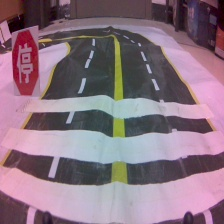stop: (10, 24, 43, 99)
